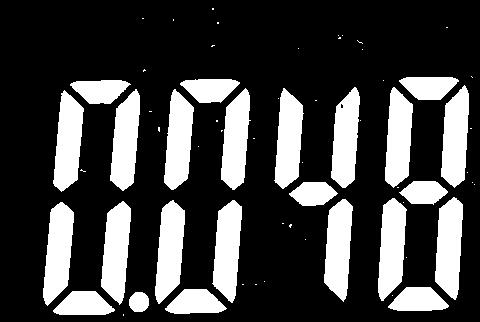0: (38, 75, 142, 315), (156, 73, 252, 316)
4: (271, 85, 365, 308)
8: (376, 73, 471, 315)
dot: (130, 289, 150, 316)
